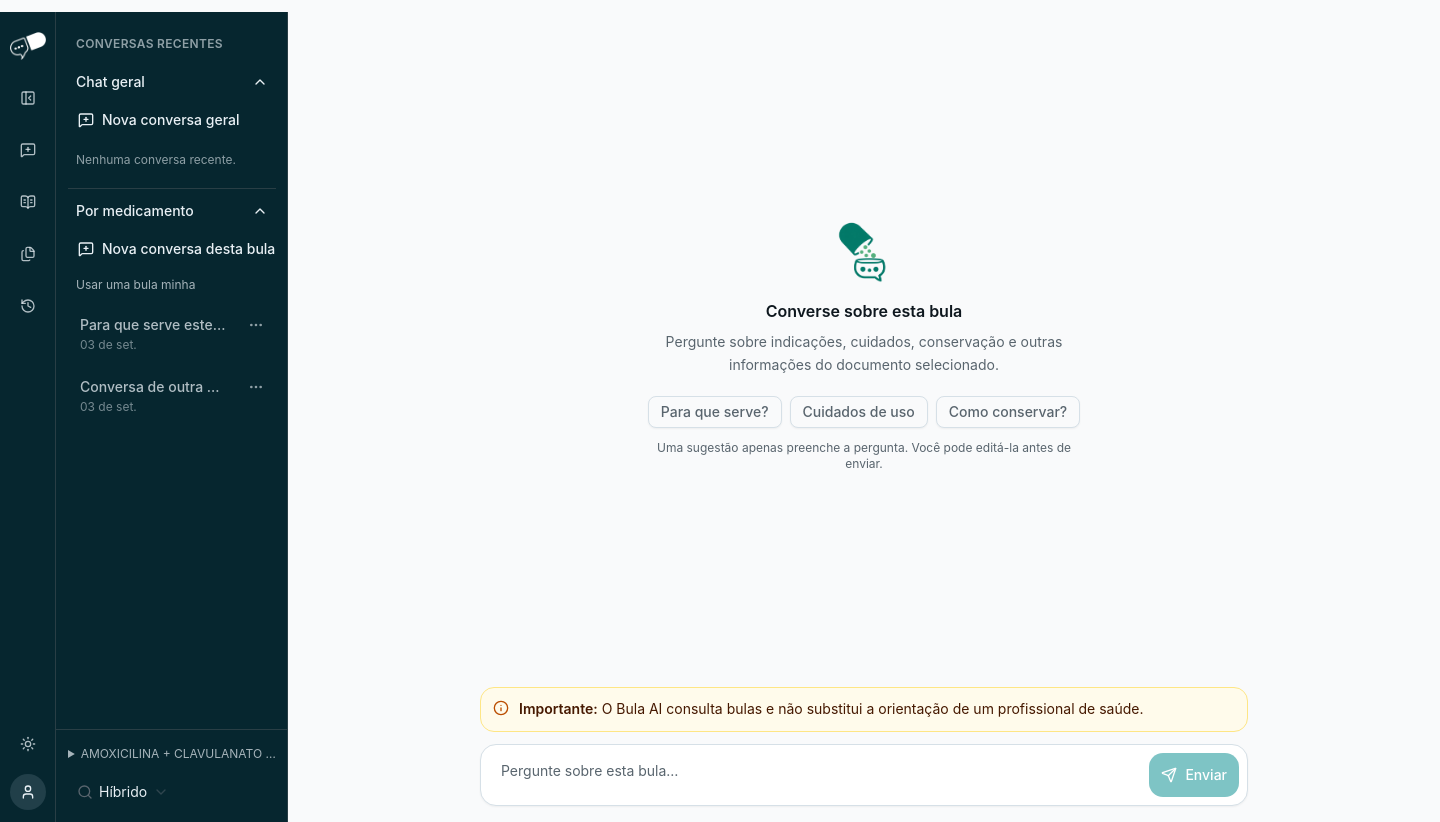
Test: ChatPage › fills an editable suggestion without sending in /bulas/11111111-1111-4111-8111-111111111111/chat
What coordinates should you click on to do the following:
click the button "Cuidados de uso"
I would click on:
 (859, 412)
Its box is [790,396,928,428].
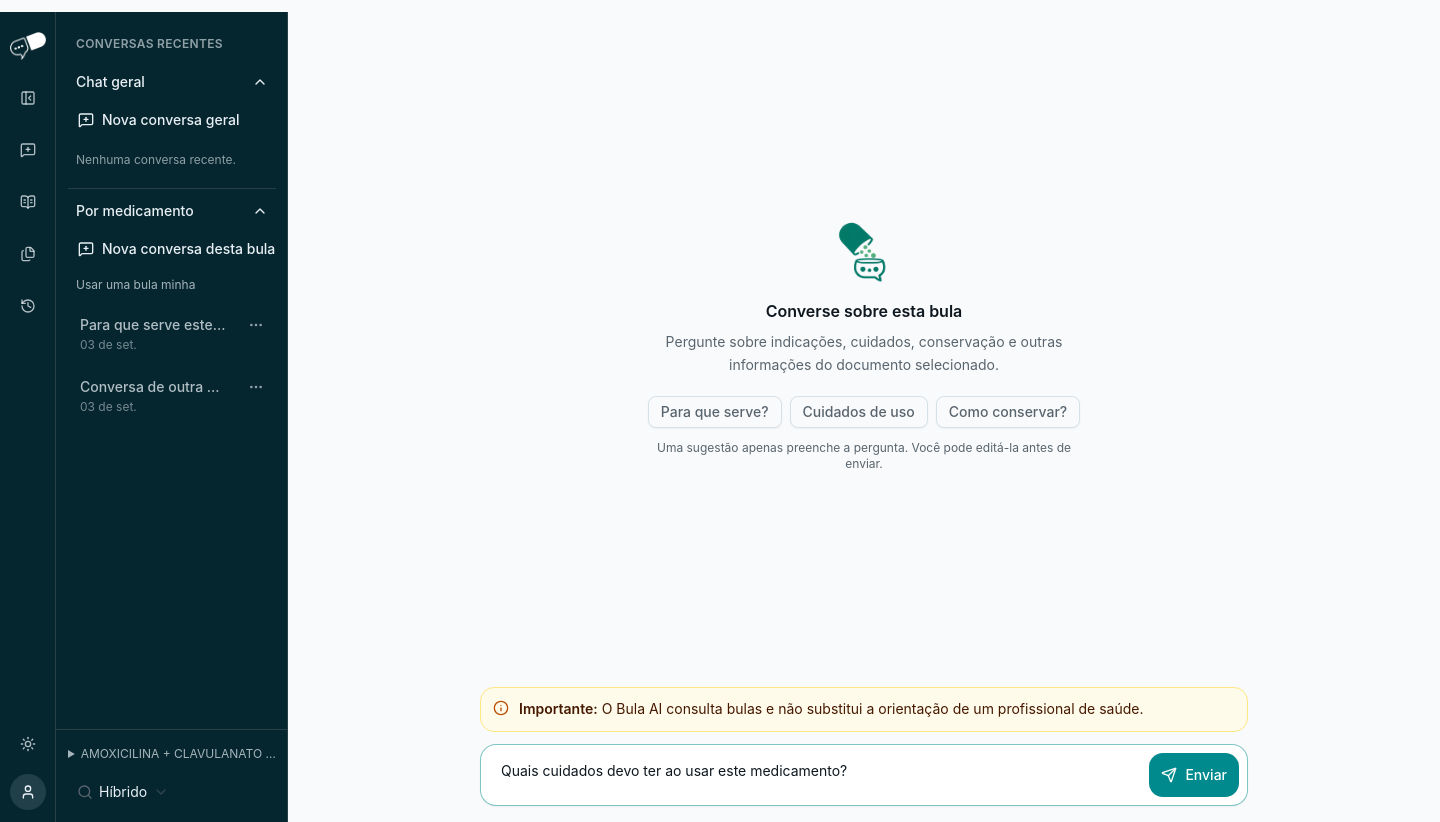
Now the text box holds "Quais cuidados devo ter ao usar este medicamento?", box [489,753,1137,797]
